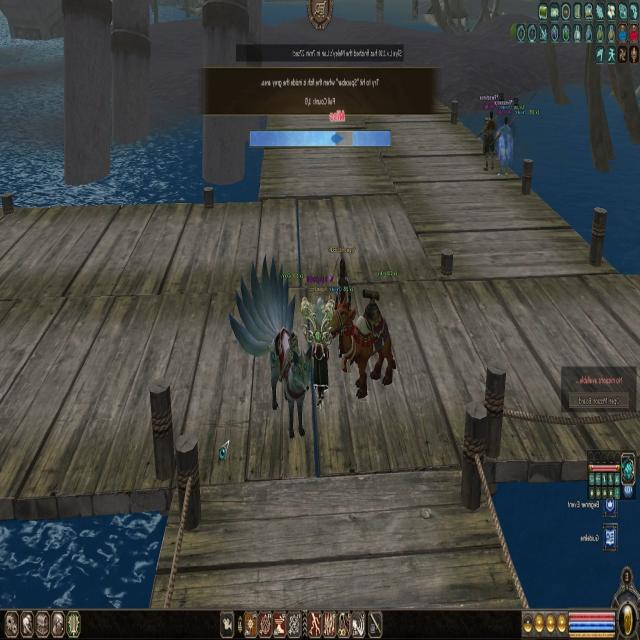box: (335, 132, 353, 145)
fishes: (331, 132, 344, 145)
